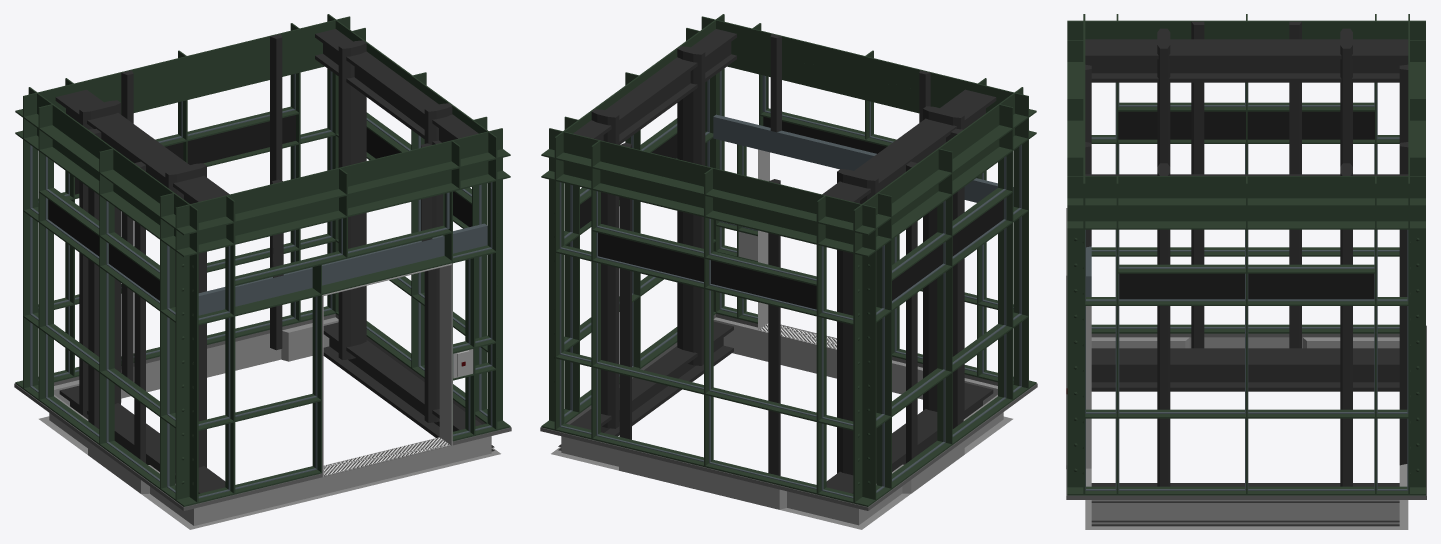
File: SW_ENV_Elevator_Shaft_StreetLevel_FF.fbx
3 renders of one model, left to right at view 1: azimuth 30°, elevation 25°; view 2: azimuth 150°, elevation 25°; view 3: azimuth 270°, elevation 25°, orthographic. The views are drawn at different scales.
Visible parts, largest first — view 1: SW_ENV_Elevator_Shaft_StreetLevel_FF; view 2: SW_ENV_Elevator_Shaft_StreetLevel_FF; view 3: SW_ENV_Elevator_Shaft_StreetLevel_FF.
Boxes of the visible parts, x1,y1,x2,y2 form: SW_ENV_Elevator_Shaft_StreetLevel_FF: [14, 14, 511, 529]; SW_ENV_Elevator_Shaft_StreetLevel_FF: [540, 14, 1037, 529]; SW_ENV_Elevator_Shaft_StreetLevel_FF: [1066, 14, 1426, 529].
Size of the model in its own units: 474 by 450 by 425.
